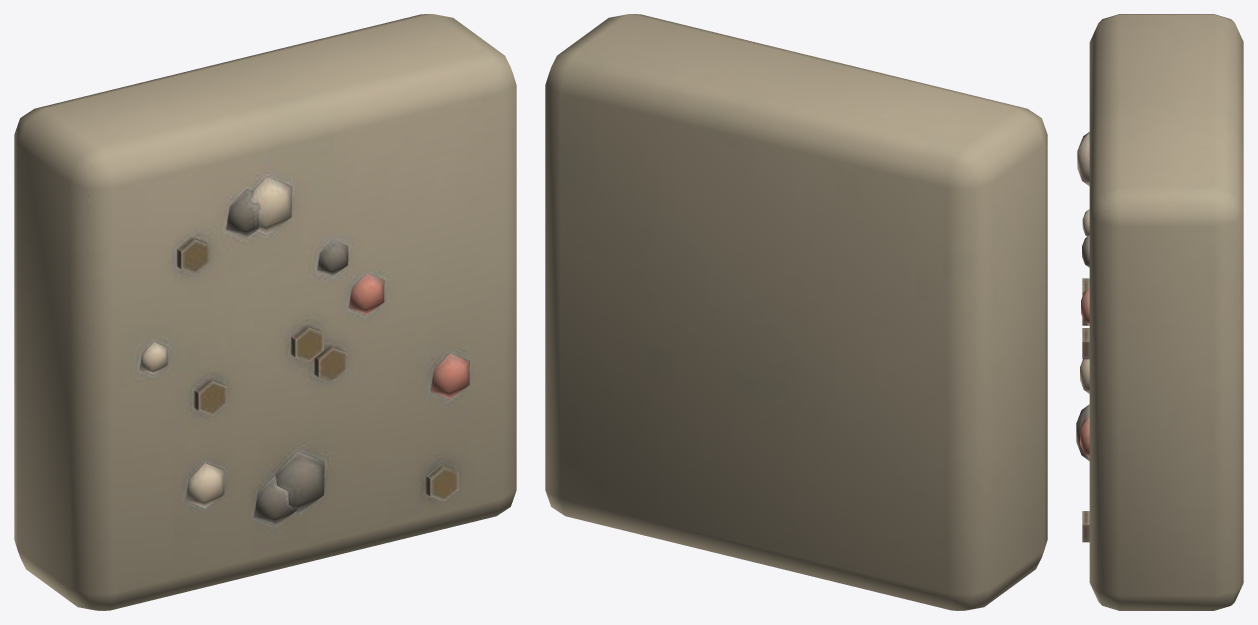
File: tile_rock_b.glb
3 views of the same model, side by side, from view 1: azimuth 30°, elevation 25°; view 2: azimuth 150°, elevation 25°; view 3: azimuth 270°, elevation 25° (orthographic). The views are drawn at different scales.
Parts seen in each view (by area): view 1: tile_rock_b; view 2: tile_rock_b; view 3: tile_rock_b.
Boxes of the visible parts, bbox=[...] form: tile_rock_b: bbox=[14, 14, 516, 610]; tile_rock_b: bbox=[545, 14, 1047, 610]; tile_rock_b: bbox=[1076, 14, 1243, 610].
Bounding box in the file's own units: 1.88 × 1.88 × 0.6745.
Materials: 1 (1 with a texture image).
